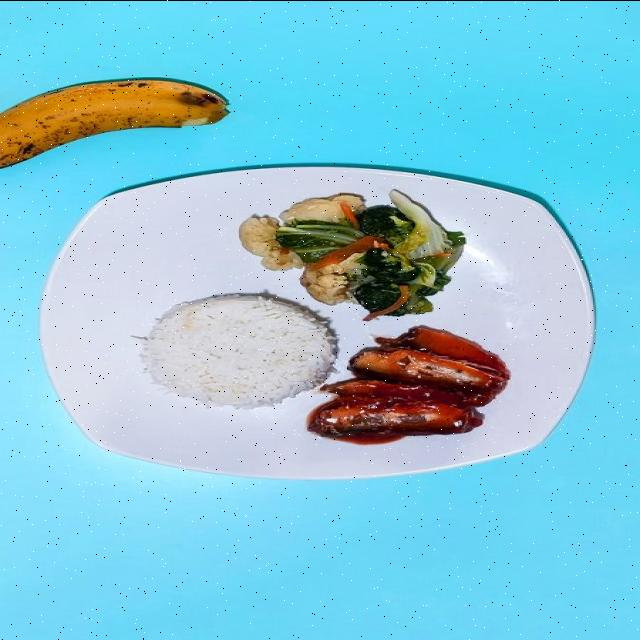Fish: (307, 326, 506, 442)
Fruits: (0, 78, 228, 168)
Green veg: (240, 189, 464, 320)
Rice: (132, 294, 336, 409)
